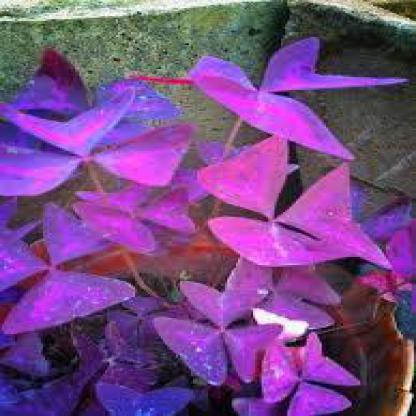Kupu-Kupu: (196, 155, 402, 269), (216, 54, 359, 165), (5, 103, 177, 188), (1, 224, 132, 321), (164, 286, 278, 368), (83, 187, 188, 247), (259, 346, 351, 409)
